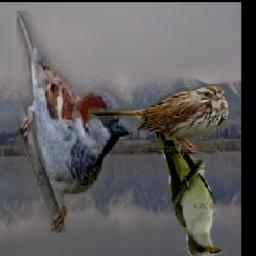Cuckoo: (154, 119, 222, 256)
Sparrow: (16, 12, 130, 234), (88, 84, 230, 154)
